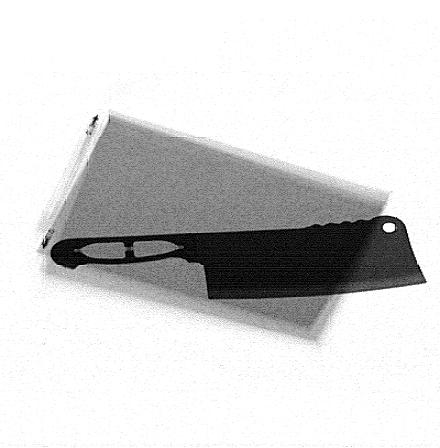Knife: (48, 215, 429, 301)
